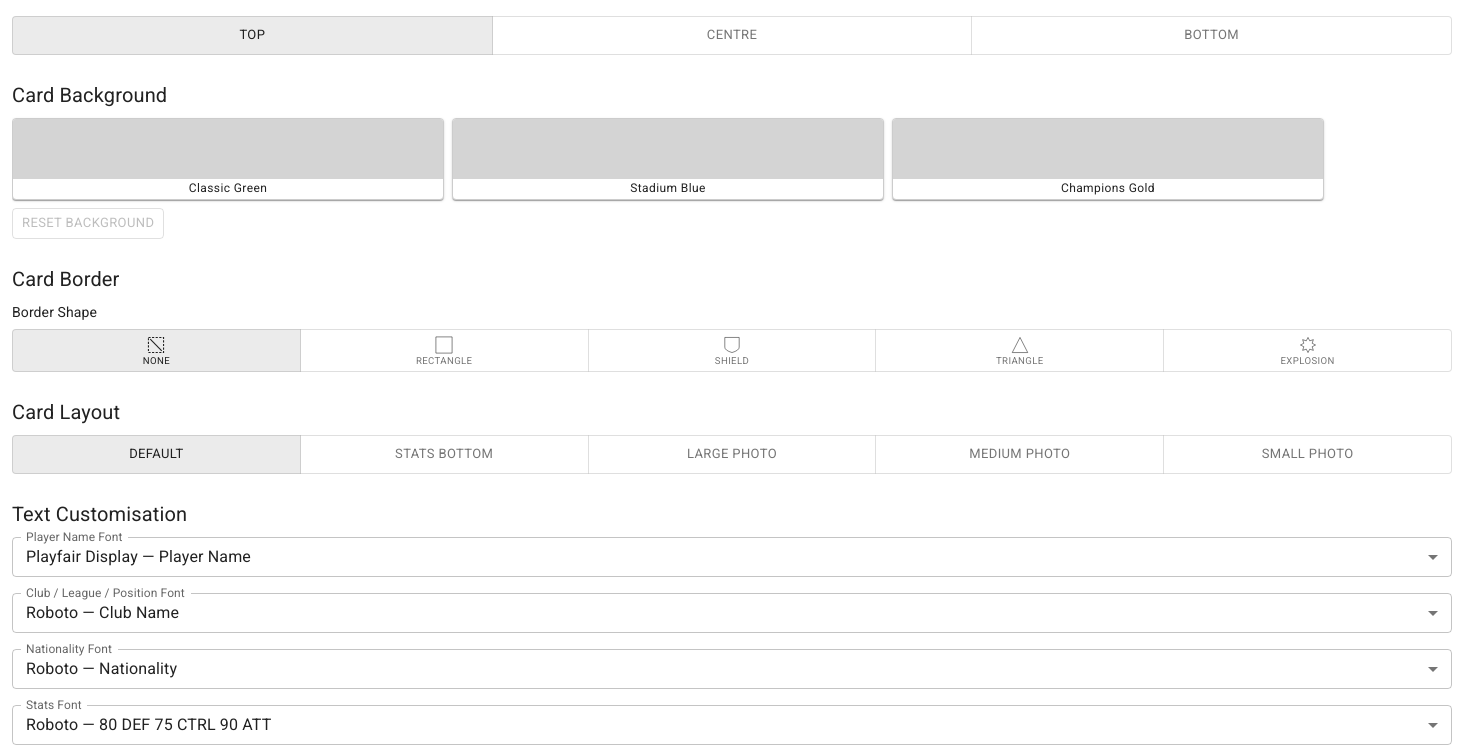
Card Border section › selecting Shield renders SVG border overlay on the card preview
(page scrolled)
Click the button with aria-label "Shield border" at (732, 350), box [588, 329, 876, 372]
(page scrolled)
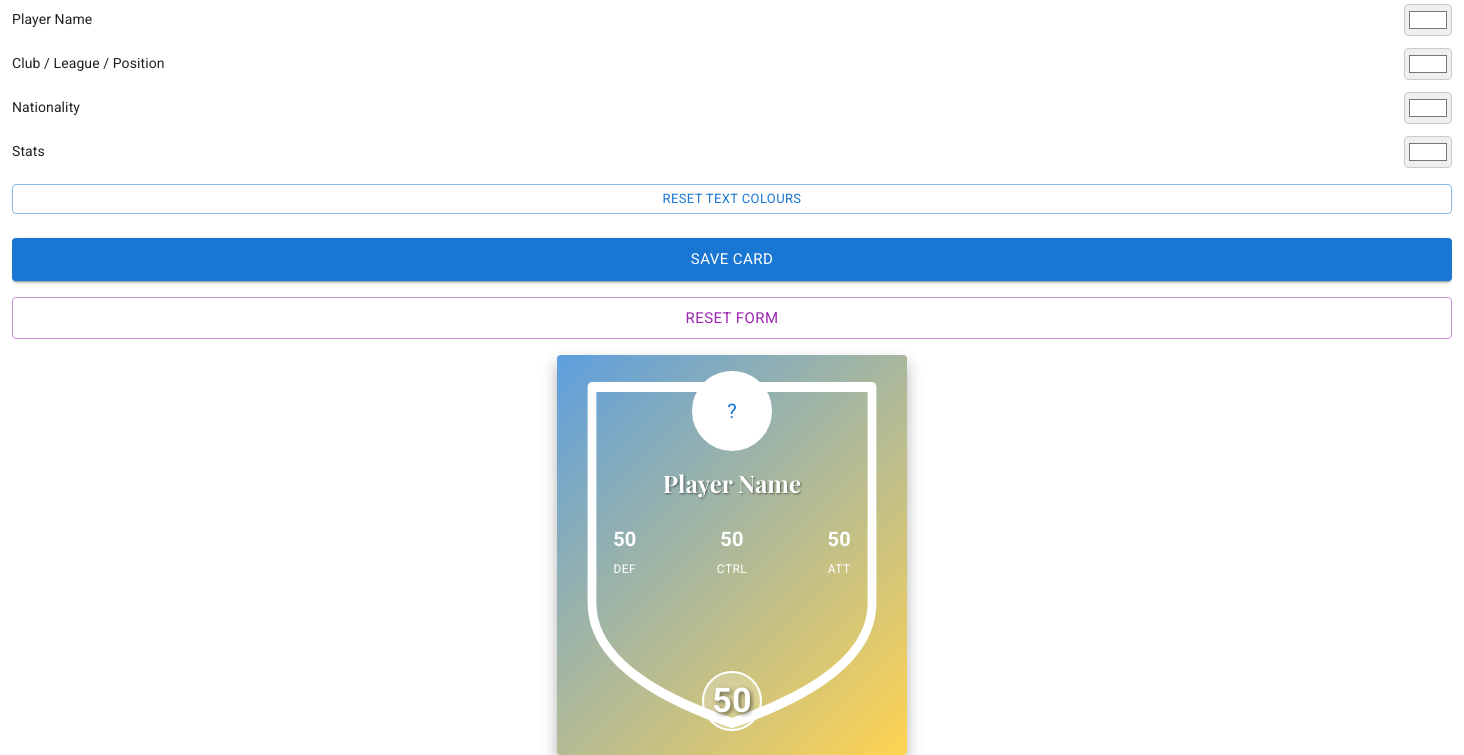
Now the icon with test id "card-border-overlay" is shown, box [557, 355, 907, 754]
